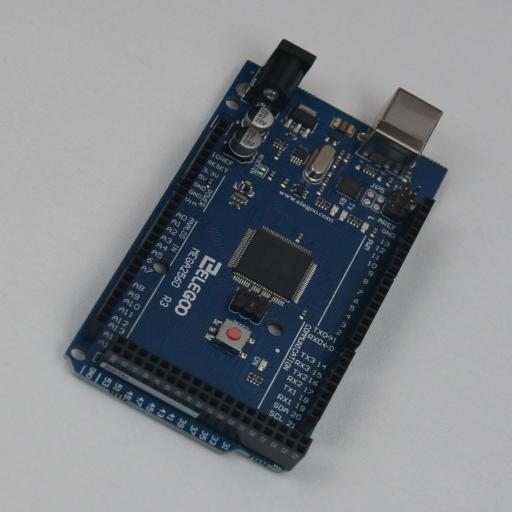Arduino Mega 2560 -Blue-: (66, 39, 448, 473)
